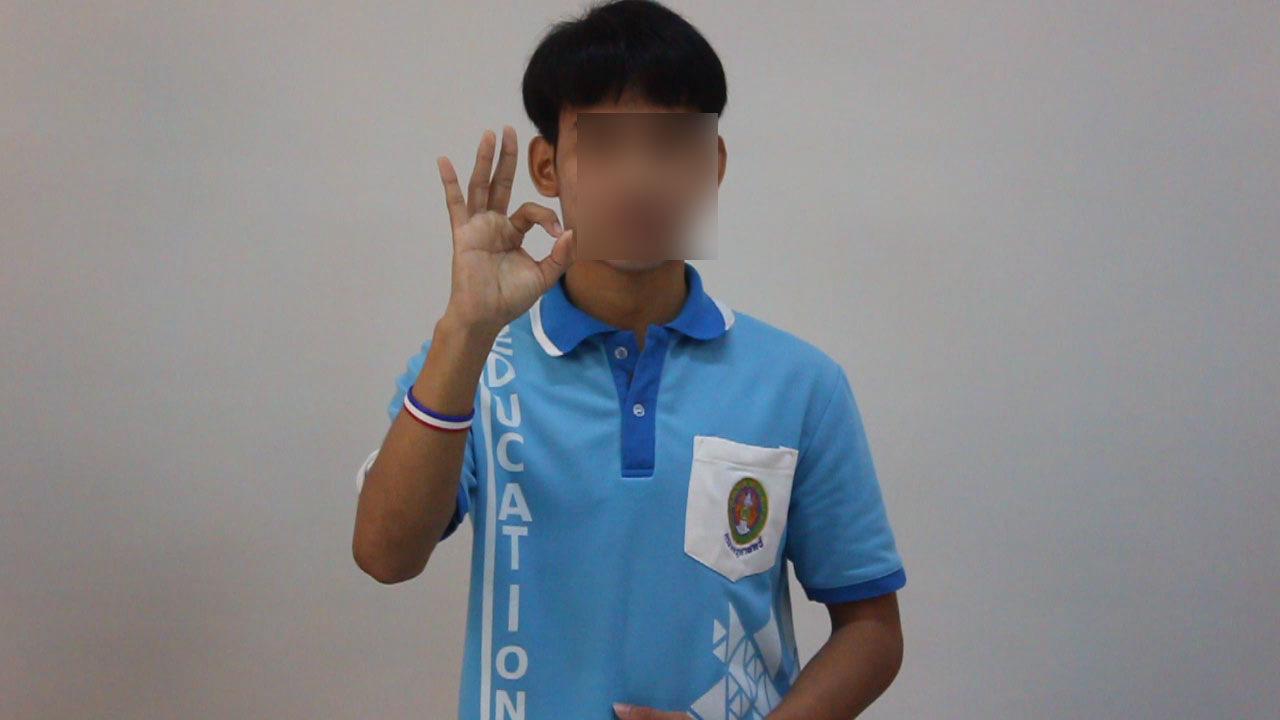for: (414, 118, 583, 344)
